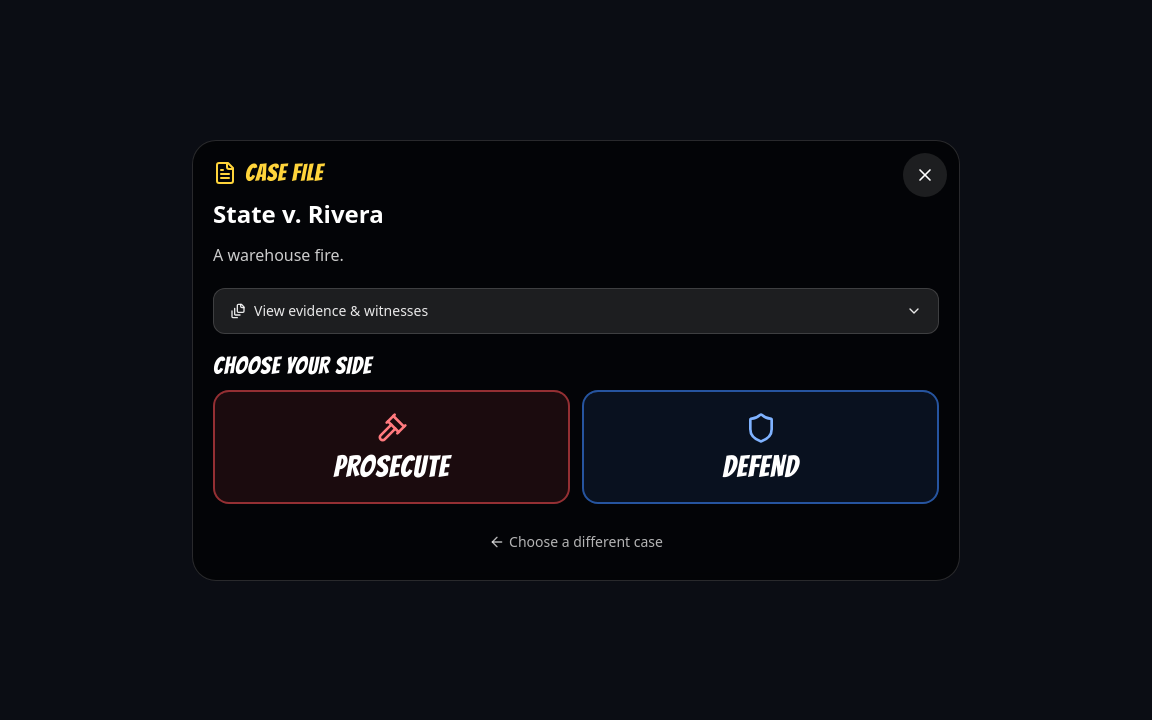
Test case: CasePreview (accept the case) › loads the evidence and witnesses only when asked
The width and height of the screenshot is (1152, 720).
Click the button "View evidence & witnesses" at (341, 310), box [213,288,939,334]
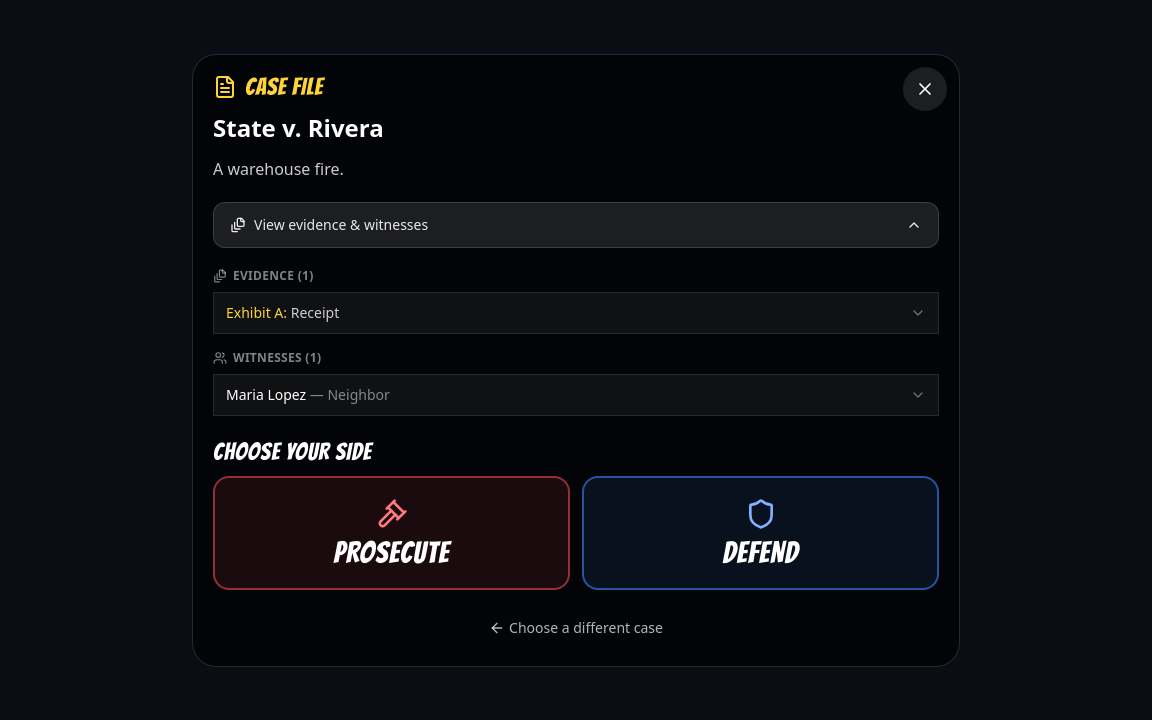
Now the text "Receipt" is shown, box [291,302,339,322]
Now the text "Maria Lopez" is shown, box [226,384,306,404]
Now the text "Evidence (1)" is shown, box [213,266,314,284]
